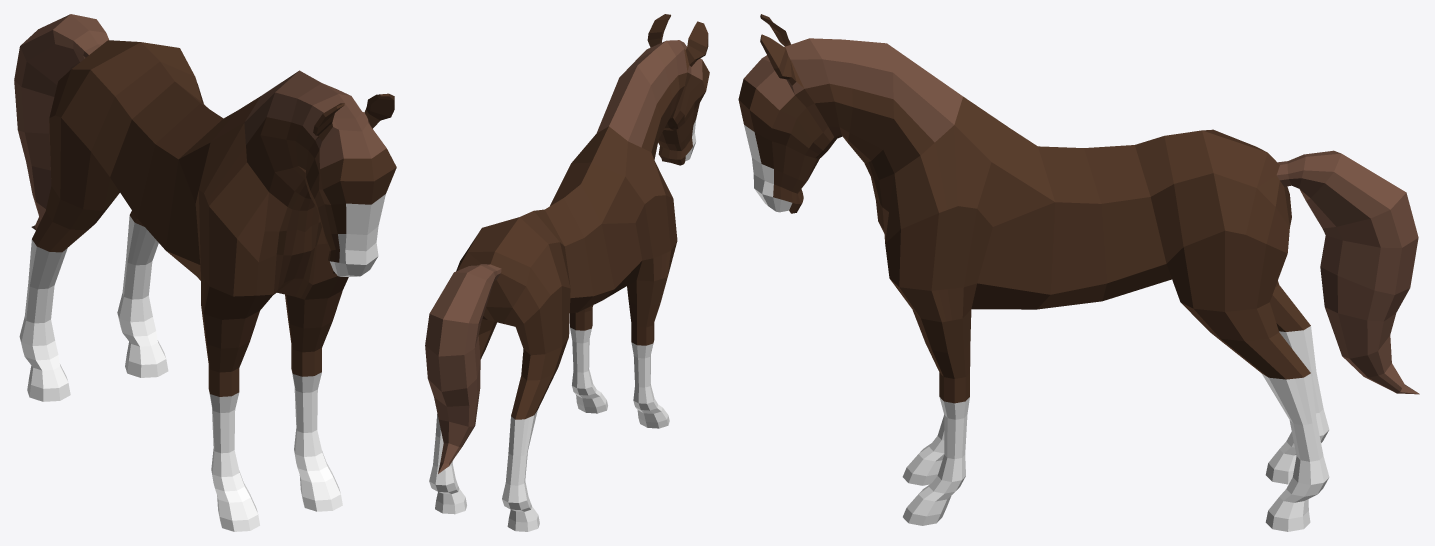
Rendered from Horse.fbx.
3 renders of one model, left to right at view 1: azimuth 30°, elevation 25°; view 2: azimuth 150°, elevation 25°; view 3: azimuth 270°, elevation 25°, orthographic. The views are drawn at different scales.
Parts seen in each view (by area): view 1: Cylinder; view 2: Cylinder; view 3: Cylinder.
Part boxes in pixels (x1=…): Cylinder: x1=14, y1=14, x2=396, y2=531; Cylinder: x1=425, y1=14, x2=709, y2=531; Cylinder: x1=738, y1=14, x2=1419, y2=531.
Size of the model in its own units: 216 by 709 by 927.
